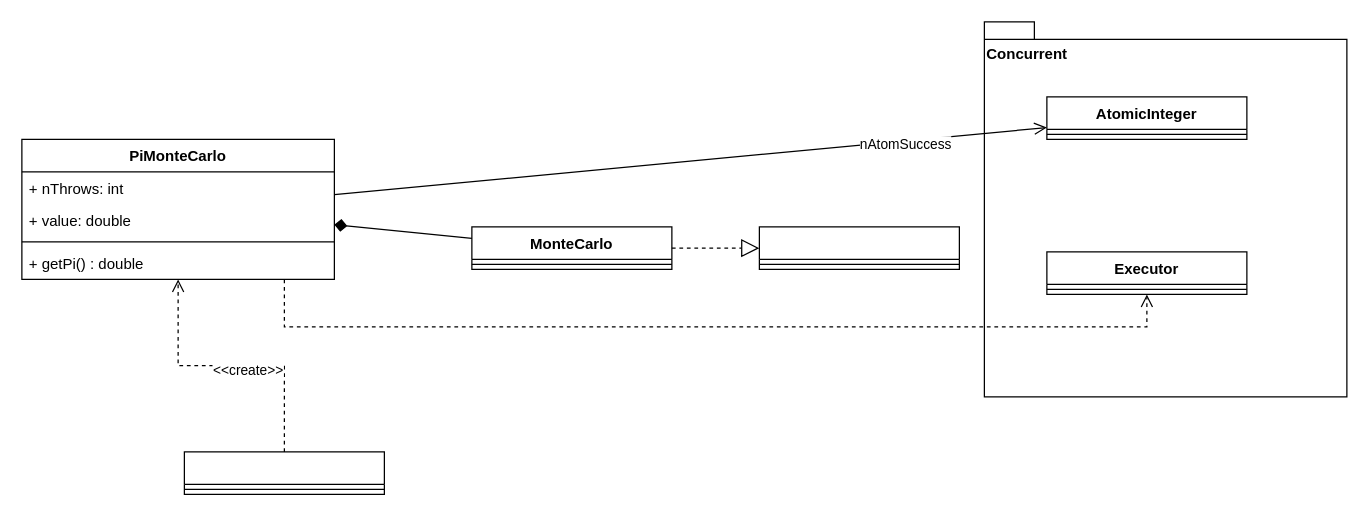
Some shapes in this 1369 by 516 pixel diagram are drawn without their labels. The shapes that lost their labels are listed below. From the top down, each one's centre as x and y in pixels, then its label:
At pixel 858 247: "Runnable".
At pixel 283 472: "Assignement102".
